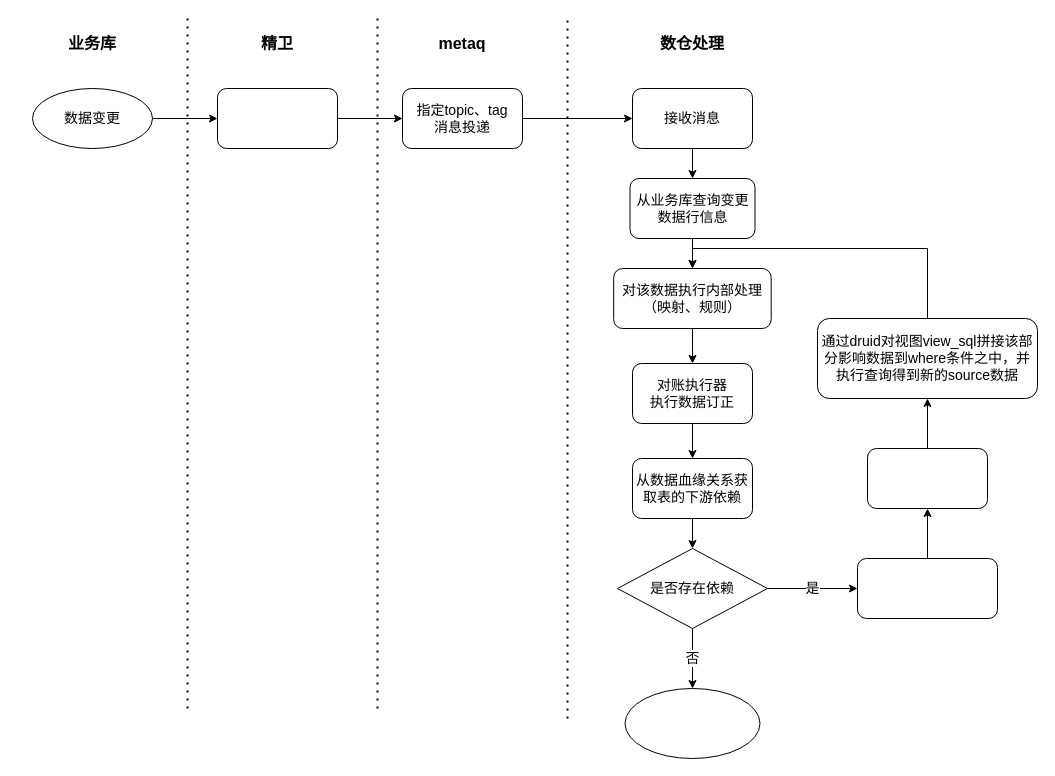
Some shapes in this 1055 by 776 pixel diagram are drawn without their labels. Here are the shapes that lost their labels. From the top down, the centre of each, then its label:
the point at 277,118: 分析binlog
the point at 927,478: 筛选出影响数据
the point at 927,588: 分析上游数据变更对下游视图表的影响
the point at 692,723: 增量流程结束
